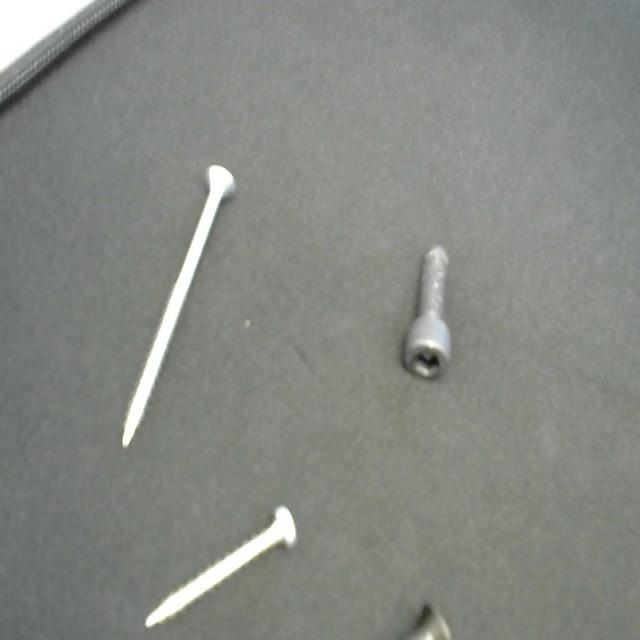FlatHeadSocketScrew: (393, 588, 467, 640)
SheetMetalScrew: (141, 486, 301, 632)
SocketHeadCapScrew: (402, 227, 460, 395)
WoodScrew: (118, 151, 245, 456)
